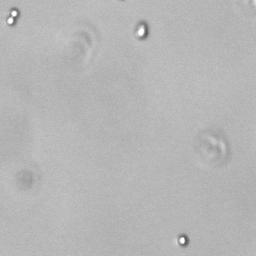budding: (135, 23, 148, 40), (6, 8, 18, 25)
individual: (178, 235, 187, 246)
